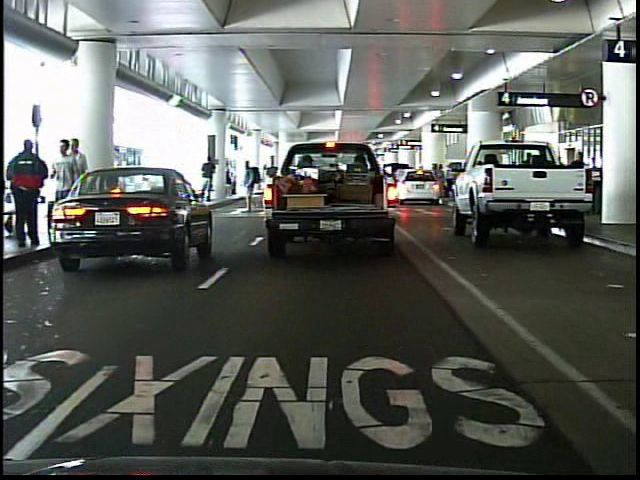person: (7, 135, 51, 255), (52, 137, 77, 238), (69, 133, 92, 236), (237, 159, 260, 214)
